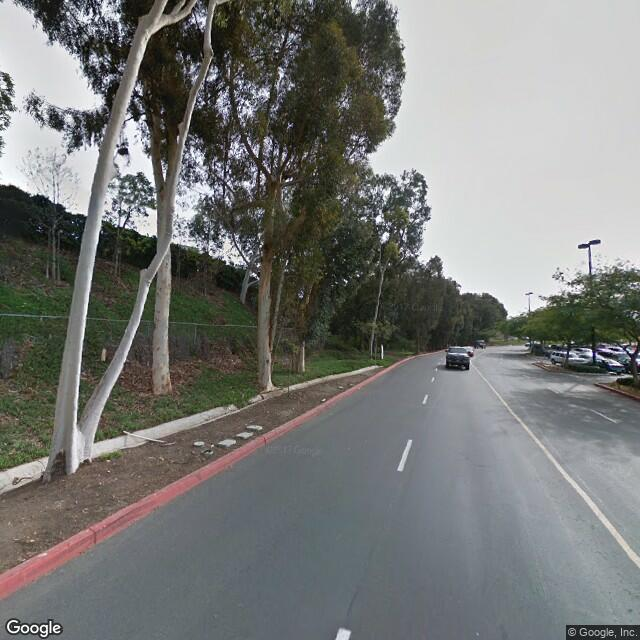litter: (28, 537, 39, 546), (104, 456, 115, 463), (209, 441, 218, 449), (318, 397, 329, 403), (106, 469, 114, 475), (348, 381, 356, 386), (337, 386, 344, 389)
